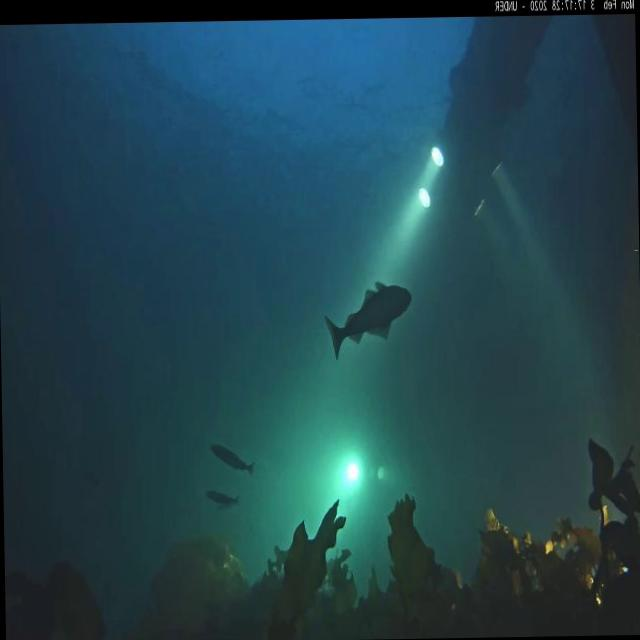fish: (324, 281, 412, 359), (209, 442, 255, 477), (205, 490, 241, 508)
